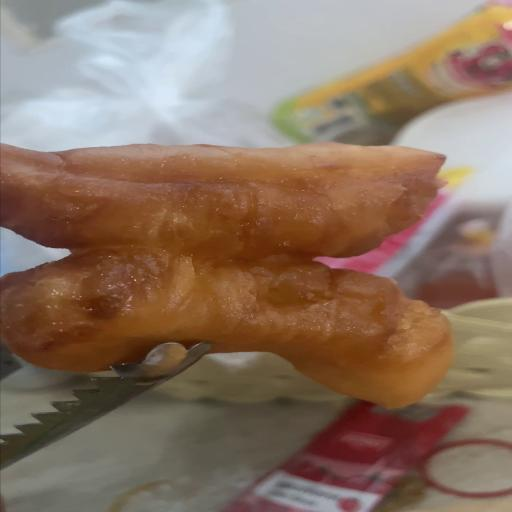street_burnt_good: (0, 142, 456, 406)
